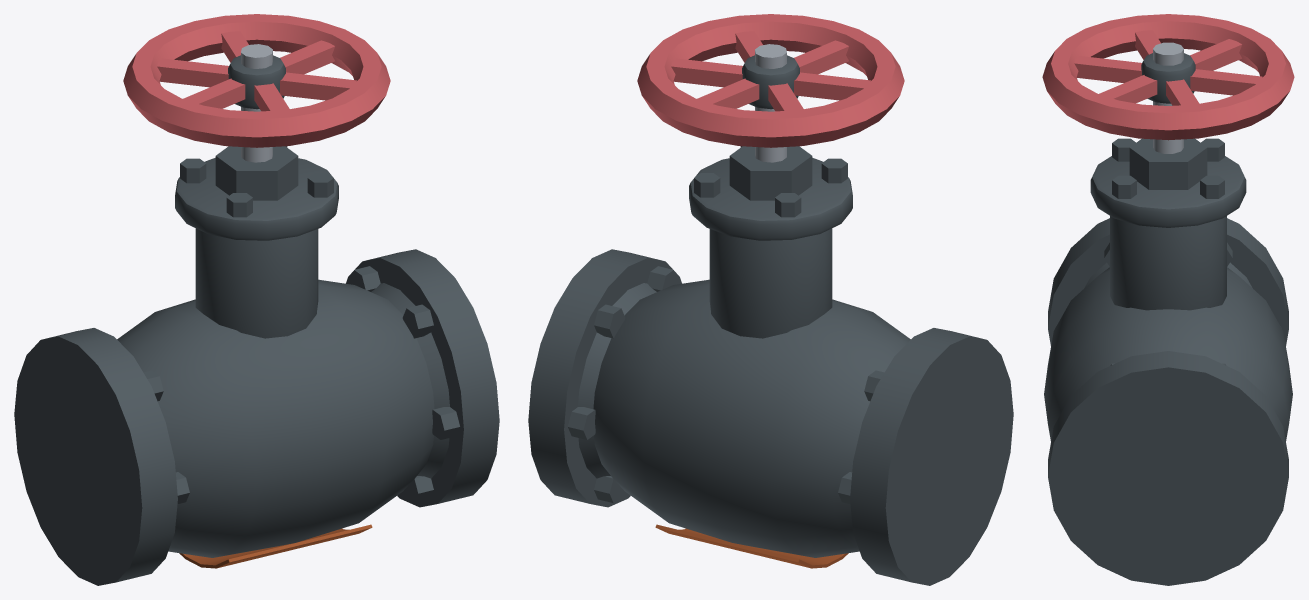
The model's file is pipe_valve.glb.
The picture shows the model from 3 angles, left to right: view 1: azimuth 30°, elevation 25°; view 2: azimuth 150°, elevation 25°; view 3: azimuth 270°, elevation 25°; orthographic projection. The views are drawn at different scales.
Visible parts, largest first — view 1: Valve; view 2: Valve; view 3: Valve.
Boxes of the visible parts, x1,y1,x2,y2 form: Valve: [14, 14, 499, 585]; Valve: [528, 14, 1013, 585]; Valve: [1042, 14, 1294, 585].
Bounding box in the file's own units: 0.5 × 0.656 × 0.324.
